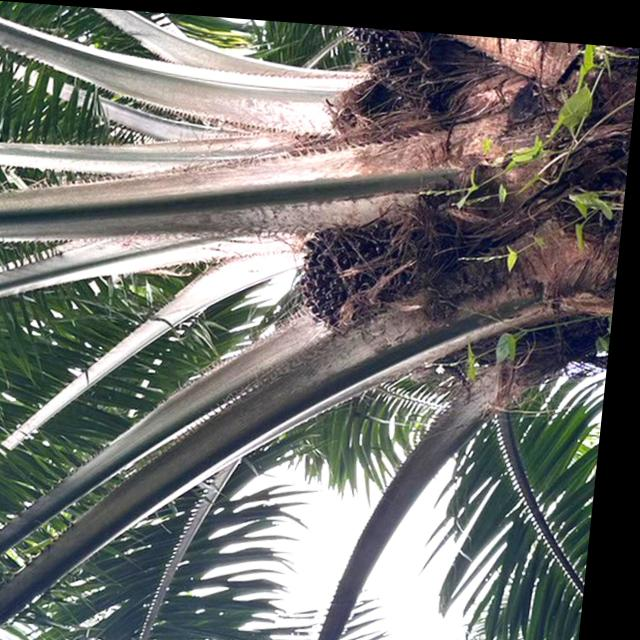ripe: (294, 202, 412, 334)
